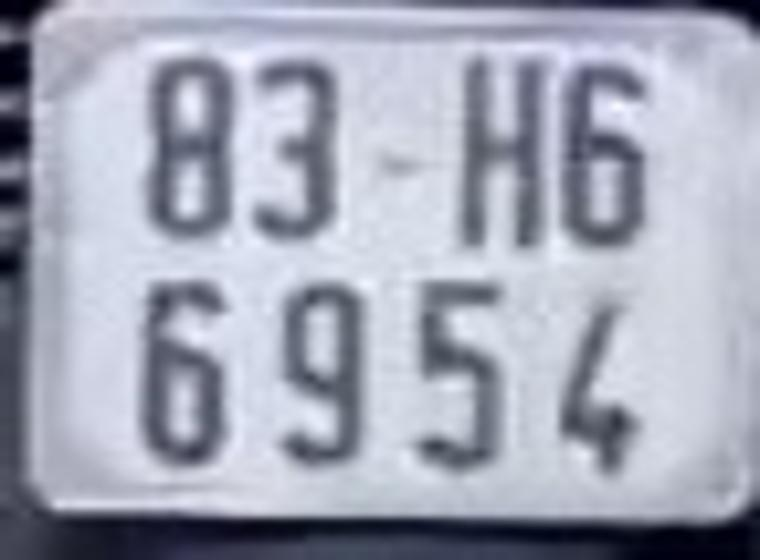-: (376, 159, 416, 175)
3: (253, 67, 333, 235)
4: (562, 299, 641, 472)
5: (413, 281, 505, 468)
6: (139, 283, 227, 463), (563, 60, 646, 244)
8: (144, 62, 232, 237)
9: (277, 287, 362, 464)
H: (466, 58, 543, 245)
